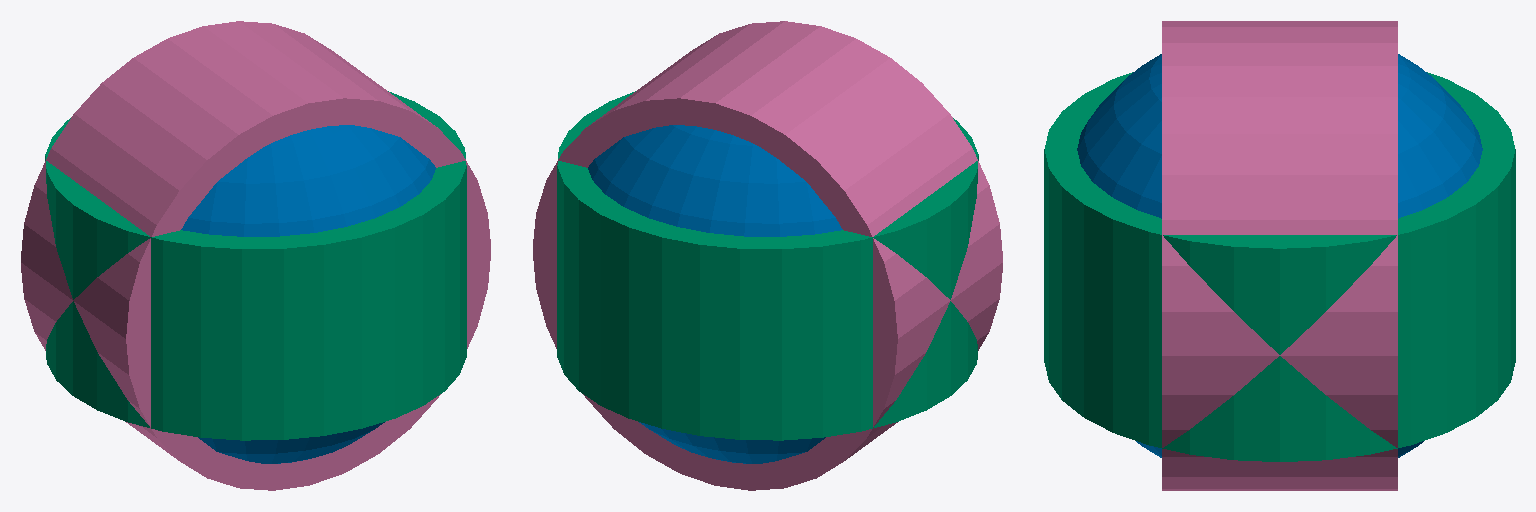
--- Facts derived from the render (not from the file) ---
The picture shows the robot from 3 angles, left to right: view 1: azimuth 30°, elevation 25°; view 2: azimuth 150°, elevation 25°; view 3: azimuth 270°, elevation 25°; orthographic projection.
Model HumanModel with 93 links and 92 joints (44 revolute, 48 fixed), rooted at Pelvis, posed every joint at zero.
Links seen in each view (by area): view 1: Neck, RightShoulder, Head; view 2: Neck, RightShoulder, Head; view 3: Neck, RightShoulder, Head.
Link boxes in pixels (box(x1,y1,x2,y2)): Neck: box(45, 91, 466, 440); RightShoulder: box(21, 21, 490, 490); Head: box(181, 125, 435, 463); Neck: box(557, 91, 978, 440); RightShoulder: box(533, 21, 1002, 490); Head: box(588, 125, 842, 463); Neck: box(1044, 72, 1515, 461); RightShoulder: box(1162, 21, 1397, 490); Head: box(1077, 54, 1482, 457).
Size in the robot's own frame: 2 by 2 by 2 metres.
Geometry: primitives only (box / cylinder / sphere), no mesh files.

robot.urdf — HumanModel:
<robot name="HumanModel">

<!--LINKS-->

##############################################################################
# PELVI  ORIGIN
##############################################################################
	<!--Link base (1)-->
	<link name="Pelvis">
        <inertial>
            <mass value="1e-5"/>
            <!--box origin wrt Pelvis-->
            <origin xyz="0 0 0" rpy="0 0 0" />
            <inertia ixx="0.0" ixy="0.0" ixz="0.0" iyy="0.0" iyz="0.0" izz="0.0"/>
        </inertial>
        <visual>
			<!--box origin wrt Pelvis-->
            <origin xyz="0 0 0" rpy="0 0 0" />
            <geometry>
                <box size="1 1 1"/>
            </geometry>
        </visual>
        <collision>
			<!--box origin wrt Pelvis-->
            <origin xyz="0 0 0" rpy="0 0 0" />
            <geometry>
                <box size="1 1 1"/>
            </geometry>
        </collision>
    </link>
##############################################################################
# PELVI - LOWERTRUNK
##############################################################################
	<link name="LowerTrunk_f1">
        <inertial>
            <mass value="1e-5"/>
            <origin xyz="0 0 0" rpy="0 0 0" />
            <inertia ixx="0.0" ixy="0.0" ixz="0.0" iyy="0.0" iyz="0.0" izz="0.0"/>
        </inertial>
    </link>
##############################################################################
# LOWERTRUNK
##############################################################################
	<link name="LowerTrunk">
        <inertial>
            <mass value="1e-5"/>
			<!--COM origin wrt LowerTrunk-->
            <origin xyz="0 0 0" rpy="0 0 0" />
            <inertia ixx="0.0" ixy="0.0" ixz="0.0" iyy="0.0" iyz="0.0" izz="0.0"/>
        </inertial>
        <visual>
			<!--box origin origin wrt jL5S1-->
            <origin xyz="0 0 0" rpy="0 0 0" />
            <geometry>
                <box size="1 1 1"/>
            </geometry>
        </visual>
        <collision>
			<!--box origin origin wrt jL5S1-->
            <origin xyz="0 0 0" rpy="0 0 0" />
            <geometry>
                <box size="1 1 1"/>
            </geometry>
        </collision>
    </link>
##############################################################################
# LOWERTRUNK - UPPERTRUNK
##############################################################################
	<link name="UpperTrunk_f1">
        <inertial>
            <mass value="1e-5"/>
            <origin xyz="0 0 0" rpy="0 0 0" />
            <inertia ixx="0.0" ixy="0.0" ixz="0.0" iyy="0.0" iyz="0.0" izz="0.0"/>
        </inertial>
    </link>
	<link name="UpperTrunk_f2">
        <inertial>
            <mass value="1e-5"/>
            <origin xyz="0 0 0" rpy="0 0 0" />
            <inertia ixx="0.0" ixy="0.0" ixz="0.0" iyy="0.0" iyz="0.0" izz="0.0"/>
        </inertial>
    </link>
##############################################################################
# UPPERTRUNK
##############################################################################
	<link name="UpperTrunk">
        <inertial>
            <mass value="1e-5"/>
			<!--COM origin wrt jL4L3-->
            <origin xyz="0 0 0" rpy="0 0 0" />
            <inertia ixx="0.0" ixy="0.0" ixz="0.0" iyy="0.0" iyz="0.0" izz="0.0"/>
        </inertial>
        <visual>
			<!--box origin origin wrt jL4L3-->
            <origin xyz="0 0 0" rpy="0 0 0" />
            <geometry>
                <box size="1 1 1"/>
            </geometry>
        </visual>
        <collision>
			<!--box origin origin wrt jL4L3-->
            <origin xyz="0 0 0" rpy="0 0 0" />
            <geometry>
                <box size="1 1 1"/>
            </geometry>
        </collision>
    </link>
##############################################################################
# RIGHTSHOULDER
##############################################################################
	<link name="RightShoulder">
        <inertial>
            <mass value="1e-5"/>
			<!--COM origin wrt jL4L3-->
            <origin xyz="0 0 0" rpy="1.5708 0 0" />
            <inertia ixx="0.0" ixy="0.0" ixz="0.0" iyy="0.0" iyz="0.0" izz="0.0"/>
        </inertial>
        <visual>
			<!--box origin origin wrt jL4L3-->
            <origin xyz="0 0 0" rpy="1.5708 0 0" />
            <geometry>
                <cylinder length="1" radius="1"/>
            </geometry>
        </visual>
        <collision>
			<!--box origin origin wrt jL4L3-->
            <origin xyz="0 0 0" rpy="1.5708 0 0" />
            <geometry>
                <cylinder length="1" radius="1"/>
            </geometry>
        </collision>
    </link>
##############################################################################
# LEFTSHOULDER
##############################################################################
	<link name="LeftShoulder">
        <inertial>
            <mass value="1e-5"/>
			<!--COM origin wrt jL4L3-->
            <origin xyz="0 0 0" rpy="0 0 0" />
            <inertia ixx="0.0" ixy="0.0" ixz="0.0" iyy="0.0" iyz="0.0" izz="0.0"/>
        </inertial>
        <visual>
			<!--box origin origin wrt jL4L3-->
            <origin xyz="0 0 0" rpy="1.5708 0 0" />
            <geometry>
                <cylinder length="1" radius="1"/>
            </geometry>
        </visual>
        <collision>
			<!--box origin origin wrt jL4L3-->
            <origin xyz="0 0 0" rpy="1.5708 0 0" />
            <geometry>
                <cylinder length="1" radius="1"/>
            </geometry>
        </collision>
    </link>
##############################################################################
# UPPERTRUNK - NECK
##############################################################################	
	<link name="Neck_f1">
        <inertial>
            <mass value="1e-5"/>
            <origin xyz="0 0 0" rpy="0 0 0" />
            <inertia ixx="0.0" ixy="0.0" ixz="0.0" iyy="0.0" iyz="0.0" izz="0.0"/>
        </inertial>
    </link>
	<link name="Neck_f2">
        <inertial>
            <mass value="1e-5"/>
            <origin xyz="0 0 0" rpy="0 0 0" />
            <inertia ixx="0.0" ixy="0.0" ixz="0.0" iyy="0.0" iyz="0.0" izz="0.0"/>
        </inertial>
    </link>
##############################################################################
# NECK
##############################################################################	
	<link name="Neck">
        <inertial>
            <mass value="1e-5"/>
			<!--COM origin wrt jT1C7-->
            <origin xyz="0 0 0" rpy="0 0 0" />
            <inertia ixx="0.0" ixy="0.0" ixz="0.0" iyy="0.0" iyz="0.0" izz="0.0"/>
        </inertial>
        <visual>
			<!--box origin wrt jT1C7-->
            <origin xyz="0 0 0" rpy="0 0 0" />
            <geometry>
		<cylinder length="1" radius="1"/>
            </geometry>
        </visual>
        <collision>
			<!--box origin wrt jT1C7-->
            <origin xyz="0 0 0" rpy="0 0 0" />
            <geometry>
                <cylinder length="1" radius="1"/>
            </geometry>
        </collision>
    </link>
##############################################################################
# NECK - HEAD
##############################################################################	
	<link name="Head_f1">
        <inertial>
            <mass value="1e-5"/>
            <origin xyz="0 0 0" rpy="0 0 0" />
            <inertia ixx="0.0" ixy="0.0" ixz="0.0" iyy="0.0" iyz="0.0" izz="0.0"/>
        </inertial>
    </link>
##############################################################################
# HEAD
##############################################################################	
	<link name="Head">
        <inertial>
            <mass value="1e-5"/>
			<!--COM origin wrt jC1Head-->
            <origin xyz="0 0 0" rpy="0 0 0" />
            <inertia ixx="0.0" ixy="0.0" ixz="0.0" iyy="0.0" iyz="0.0" izz="0.0"/>
        </inertial>
        <visual>
			<!--boc origin wrt jC1Head-->
            <origin xyz="0 0 0" rpy="0 0 0" />
            <geometry>
                <sphere radius="1"/>
            </geometry>
        </visual>
        <collision>
			<!--box origin wrt jC1Head-->
            <origin xyz="0 0 0" rpy="0 0 0" />
            <geometry>
                <sphere radius="1"/>
            </geometry>
        </collision>
    </link>
##############################################################################
# RIGHT SHOULDER
##############################################################################
	<link name="RightShoulder_f1">
        <inertial>
            <mass value="1e-5"/>
            <origin xyz="0 0 0" rpy="0 0 0" />
            <inertia ixx="0.0" ixy="0.0" ixz="0.0" iyy="0.0" iyz="0.0" izz="0.0"/>
        </inertial>
    </link>
	<link name="RightShoulder_f2">
        <inertial>
            <mass value="1e-5"/>
            <origin xyz="0 0 0" rpy="0 0 0" />
            <inertia ixx="0.0" ixy="0.0" ixz="0.0" iyy="0.0" iyz="0.0" izz="0.0"/>
        </inertial>
    </link>
##############################################################################
# RIGHT UPPERARM
##############################################################################
    <link name="RightUpperArm">
        <inertial>
            <mass value="1e-5"/>
			<!--COM origin wrt jRightShoulder-->
            <origin xyz="0 0 0" rpy="0 0 0" />
            <inertia ixx="0.0" ixy="0.0" ixz="0.0" iyy="0.0" iyz="0.0" izz="0.0"/>
        </inertial>
        <visual>
			<!--box origin wrt jRightShoulder. RPY rotated of pi/2.-->
            <origin xyz="0 0 0" rpy="1.5708 0 0" />
            <geometry>
                <cylinder length="1" radius="1"/>
            </geometry>
        </visual>
        <collision>
			<!--box origin wrt jRightShoulder. RPY rotated of pi/2.-->
            <origin xyz="0 0 0" rpy="1.5708 0 0" />
            <geometry>
                <cylinder length="1" radius="1"/>
            </geometry>
        </collision>
    </link>
##############################################################################
# RIGHT ELBOW
##############################################################################
	<link name="RightForeArm_f1">
        <inertial>
            <mass value="1e-5"/>
            <origin xyz="0 0 0" rpy="0 0 0" />
            <inertia ixx="0.0" ixy="0.0" ixz="0.0" iyy="0.0" iyz="0.0" izz="0.0"/>
        </inertial>
    </link>
##############################################################################
# RIGHT FOREARM
##############################################################################
	<link name="RightForeArm">
        <inertial>
            <mass value="1e-5"/>
			<!--COM origin wrt jRightElbow-->
            <origin xyz="0 0 0" rpy="0 0 0" />
            <inertia ixx="0.0" ixy="0.0" ixz="0.0" iyy="0.0" iyz="0.0" izz="0.0"/>
        </inertial>
        <visual>
			<!--box origin wrt jRightElbow. RPY rotated of pi/2.-->
            <origin xyz="0 0 0" rpy="1.5708 0 0" />
            <geometry>
                <cylinder length="1" radius="1"/>
            </geometry>
        </visual>
        <collision>
			<!--box origin wrt jRightElbow. RPY rotated of pi/2.-->
            <origin xyz="0 0 0" rpy="1.5708 0 0" />
            <geometry>
                <cylinder length="1" radius="1"/>
            </geometry>
        </collision>
    </link>
##############################################################################
# RIGHT WRIST
##############################################################################
	<link name="RightHand_f1">
        <inertial>
            <mass value="1e-5"/>
            <origin xyz="0 0 0" rpy="0 0 0" />
            <inertia ixx="0.0" ixy="0.0" ixz="0.0" iyy="0.0" iyz="0.0" izz="0.0"/>
        </inertial>
    </link>
##############################################################################
# RIGHT HAND
##############################################################################
	<link name="RightHand">
        <inertial>
            <mass value="1e-5"/>
			<!--COM origin wrt jRightWrist-->
            <origin xyz="0 0 0" rpy="0 0 0" />
            <inertia ixx="0.0" ixy="0.0" ixz="0.0" iyy="0.0" iyz="0.0" izz="0.0"/>
        </inertial>
        <visual>
			<!--box origin wrt jRightWrist-->
            <origin xyz="0 0 0" rpy="0 0 0" />
            <geometry>
                <box size="1 1 1"/>
            </geometry>
        </visual>
        <collision>
			<!--box origin wrt jRightWrist-->
            <origin xyz="0 0 0" rpy="0 0 0" />
            <geometry>
                <box size="1 1 1"/>
            </geometry>
        </collision>
    </link>
##############################################################################
# RIGHT HAND COM
##############################################################################
    <link name="RightHandCOM">
        <inertial>
            <mass value="1e-05"/>
            <origin xyz="0 0 0" rpy="0 0 0" />
            <inertia ixx="0.0" ixy="0.0" ixz="0.0" iyy="0.0" iyz="0.0" izz="0.0"/>
        </inertial>
        <visual>
            <!--box origin wrt jRightWrist-->
            <origin xyz="0 0 0" rpy="0 0 0" />
            <geometry>
                <box size="0 0 0"/>
            </geometry>
        </visual>
    </link>
##############################################################################
# LEFT SHOULDER
##############################################################################
	<link name="LeftShoulder_f1">
        <inertial>
            <mass value="1e-5"/>
            <origin xyz="0 0 0" rpy="0 0 0" />
            <inertia ixx="0.0" ixy="0.0" ixz="0.0" iyy="0.0" iyz="0.0" izz="0.0"/>
        </inertial>
    </link>
	<link name="LeftShoulder_f2">
        <inertial>
            <mass value="1e-5"/>
            <origin xyz="0 0 0" rpy="0 0 0" />
            <inertia ixx="0.0" ixy="0.0" ixz="0.0" iyy="0.0" iyz="0.0" izz="0.0"/>
        </inertial>
    </link>
##############################################################################
# LEFT UPPERARM
##############################################################################
	<link name="LeftUpperArm">
        <inertial>
            <mass value="1e-5"/>
			<!--COM origin wrt jLeftShoulder-->
            <origin xyz="0 0 0" rpy="0 0 0" />
            <inertia ixx="0.0" ixy="0.0" ixz="0.0" iyy="0.0" iyz="0.0" izz="0.0"/>
        </inertial>
        <visual>
			<!--box origin wrt jLeftShoulder. RPY rotated of pi/2.-->
            <origin xyz="0 0 0" rpy="1.5708 0 0" />
            <geometry>
                <cylinder length="1" radius="1"/>
            </geometry>
        </visual>
        <collision>
			<!--box origin wrt jLeftShoulder. RPY rotated of pi/2.-->
            <origin xyz="0 0 0" rpy="1.5708 0 0" />
            <geometry>
                <cylinder length="1" radius="1"/>
            </geometry>
        </collision>
    </link>
##############################################################################
# LEFT ELBOW
##############################################################################
	<link name="LeftForeArm_f1">
        <inertial>
            <mass value="1e-5"/>
            <origin xyz="0 0 0" rpy="0 0 0" />
            <inertia ixx="0.0" ixy="0.0" ixz="0.0" iyy="0.0" iyz="0.0" izz="0.0"/>
        </inertial>
    </link>
##############################################################################
# LEFT FOREARM
##############################################################################
	<link name="LeftForeArm">
        <inertial>
            <mass value="1e-5"/>
			<!--COM origin wrt jLeftElbow-->
            <origin xyz="0 0 0" rpy="0 0 0" />
            <inertia ixx="0.0" ixy="0.0" ixz="0.0" iyy="0.0" iyz="0.0" izz="0.0"/>
        </inertial>
        <visual>
			<!--box origin wrt jLeftElbow. RPY rotated of pi/2.-->
            <origin xyz="0 0 0" rpy="1.5708 0 0" />
            <geometry>
                <cylinder length="1" radius="1"/>
            </geometry>
        </visual>
        <collision>
			<!--box origin wrt jLeftElbow. RPY rotated of pi/2.-->
            <origin xyz="0 0 0" rpy="1.5708 0 0" />
            <geometry>
                <cylinder length="1" radius="1"/>
            </geometry>
        </collision>
    </link>
##############################################################################
# LEFT WRIST
##############################################################################
	<link name="LeftHand_f1">
        <inertial>
            <mass value="1e-5"/>
            <origin xyz="0 0 0" rpy="0 0 0" />
            <inertia ixx="0.0" ixy="0.0" ixz="0.0" iyy="0.0" iyz="0.0" izz="0.0"/>
        </inertial>
    </link>
##############################################################################
# LEFT HAND
##############################################################################
	<link name="LeftHand">
        <inertial>
            <mass value="1e-5"/>
			<!--COM origin wrt jLeftWrist-->
            <origin xyz="0 0 0" rpy="0 0 0" />
            <inertia ixx="0.0" ixy="0.0" ixz="0.0" iyy="0.0" iyz="0.0" izz="0.0"/>
        </inertial>
        <visual>
			<!--COM origin wrt jLeftWrist-->
            <origin xyz="0 0 0" rpy="0 0 0" />
            <geometry>
                <box size="1 1 1"/>
            </geometry>
        </visual>
        <collision>
			<!--COM origin wrt jLeftWrist-->
            <origin xyz="0 0 0" rpy="0 0 0" />
            <geometry>
                <box size="1 1 1"/>
            </geometry>
        </collision>
    </link>
##############################################################################
# LEFT HAND COM
##############################################################################
    <link name="LeftHandCOM">
        <inertial>
            <mass value="1e-05"/>
            <origin xyz="0 0 0" rpy="0 0 0" />
            <inertia ixx="0.0" ixy="0.0" ixz="0.0" iyy="0.0" iyz="0.0" izz="0.0"/>
        </inertial>
        <visual>
            <!--COM origin wrt jLeftWrist-->
            <origin xyz="0 0 0" rpy="0 0 0" />
            <geometry>
                <box size="0 0 0"/>
            </geometry>

        </visual>
    </link>
##############################################################################
# RIGHT HIP
##############################################################################
	<link name="RightUpperLeg_f1">
        <inertial>
            <mass value="1e-5"/>
            <origin xyz="0 0 0" rpy="0 0 0" />
            <inertia ixx="0.0" ixy="0.0" ixz="0.0" iyy="0.0" iyz="0.0" izz="0.0"/>
        </inertial>
    </link>
	<link name="RightUpperLeg_f2">
        <inertial>
            <mass value="1e-5"/>
            <origin xyz="0 0 0" rpy="0 0 0" />
            <inertia ixx="0.0" ixy="0.0" ixz="0.0" iyy="0.0" iyz="0.0" izz="0.0"/>
        </inertial>
    </link>
##############################################################################
# RIGHT UPPERLEG
##############################################################################
    <link name="RightUpperLeg">
        <inertial>
            <mass value="1e-5"/>
			<!--COM origin wrt jRightHip-->
            <origin xyz="0 0 0" rpy="0 0 0" />
            <inertia ixx="0.0" ixy="0.0" ixz="0.0" iyy="0.0" iyz="0.0" izz="0.0"/>
        </inertial>
        <visual>
			<!--box origin wrt jRightHip-->
            <origin xyz="0 0 0" rpy="0 0 0" />
            <geometry>
                <cylinder length="1" radius="1"/>
            </geometry>
        </visual>
        <collision>
			<!--box origin wrt jRightHip-->
            <origin xyz="0 0 0" rpy="0 0 0" />
            <geometry>
                <cylinder length="1" radius="1"/>
            </geometry>
        </collision>
     </link>
##############################################################################
# RIGHT KNEE
##############################################################################
	<link name="RightLowerLeg_f1">
        <inertial>
            <mass value="1e-5"/>
            <origin xyz="0 0 0" rpy="0 0 0" />
            <inertia ixx="0.0" ixy="0.0" ixz="0.0" iyy="0.0" iyz="0.0" izz="0.0"/>
        </inertial>
    </link>
##############################################################################
# RIGHT LOWERLEG
##############################################################################
    <link name="RightLowerLeg">
        <inertial>
            <mass value="1e-5"/>
			<!--COM origin wrt jRightKnee-->
            <origin xyz="0 0 0" rpy="0 0 0" />
            <inertia ixx="0.0" ixy="0.0" ixz="0.0" iyy="0.0" iyz="0.0" izz="0.0"/>
        </inertial>
        <visual>
			<!--box origin wrt jRightKnee-->
            <origin xyz="0 0 0" rpy="0 0 0" />
            <geometry>
                <cylinder length="1" radius="1"/>
            </geometry>
        </visual>
        <collision>
			<!--box origin wrt jRightKnee-->
            <origin xyz="0 0 0" rpy="0 0 0" />
            <geometry>
                <cylinder length="1" radius="1"/>
            </geometry>
        </collision>
    </link>
##############################################################################
# RIGHT ANKLE
############################################################################## 
	<link name="RightFoot_f1">
        <inertial>
            <mass value="1e-5"/>
            <origin xyz="0 0 0" rpy="0 0 0" />
            <inertia ixx="0.0" ixy="0.0" ixz="0.0" iyy="0.0" iyz="0.0" izz="0.0"/>
        </inertial>
    </link>
	<link name="RightFoot_f2">
        <inertial>
            <mass value="1e-5"/>
            <origin xyz="0 0 0" rpy="0 0 0" />
            <inertia ixx="0.0" ixy="0.0" ixz="0.0" iyy="0.0" iyz="0.0" izz="0.0"/>
        </inertial>
    </link>
##############################################################################
# RIGHT FOOT
##############################################################################
    <link name="RightFoot">
        <inertial>
            <mass value="1e-5"/>
			<!--COM origin wrt jRightAnkle-->
            <origin xyz="0 0 0" rpy="0 0 0" />
            <inertia ixx="0.0" ixy="0.0" ixz="0.0" iyy="0.0" iyz="0.0" izz="0.0"/>
        </inertial>
        <visual>
			<!--box origin wrt jRightAnkle-->
            <origin xyz="0 0 0" rpy="0 0 0" />
            <geometry>
                <box size="1 1 1"/>
            </geometry>
        </visual>
        <collision>
			<!--box origin wrt jRightAnkle-->
            <origin xyz="0 0 0" rpy="0 0 0" />
	        <geometry>
                <box size="1 1 1"/>
	        </geometry>
        </collision>
    </link>
##############################################################################
# RIGHT TOE
##############################################################################
    <link name="RightToe">
        <inertial>
            <mass value="1e-5"/>
			<!--COM origin wrt jRightBallFoot-->
            <origin xyz="0 0 0" rpy="0 0 0" />
            <inertia ixx="0.0" ixy="0.0" ixz="0.0" iyy="0.0" iyz="0.0" izz="0.0"/>
        </inertial>
        <visual>
			<!--box origin wrt jRightBallFoot-->
            <origin xyz="0 0 0" rpy="0 0 0" />
            <geometry>
                <box size="1 1 1"/>
            </geometry>
        </visual>
        <collision>
			<!--box origin wrt jRightBallFoot-->
            <origin xyz="0 0 0" rpy="0 0 0" />
	        <geometry>
                <box size="1 1 1"/>
	        </geometry>
        </collision>
    </link>
##############################################################################
# RIGHT FTSENSOR
##############################################################################
    <link name="RightFTSensor">
        <inertial>
            <mass value="1e-05"/>
            <origin xyz="0 0 0" rpy="0 0 0" />
            <inertia ixx="0.0" ixy="0.0" ixz="0.0" iyy="0.0" iyz="0.0" izz="0.0"/>
        </inertial>
        <visual>
            <!--box origin wrt jRightBirken-->
            <origin xyz="0 0 0" rpy="0 0 0" />
            <geometry>
                <box size="0 0 0"/>
            </geometry>
        </visual>
    </link>
##############################################################################
# LEFT HIP
##############################################################################	
	<link name="LeftUpperLeg_f1">
        <inertial>
            <mass value="1e-5"/>
            <origin xyz="0 0 0" rpy="0 0 0" />
            <inertia ixx="0.0" ixy="0.0" ixz="0.0" iyy="0.0" iyz="0.0" izz="0.0"/>
        </inertial>
    </link>
	<link name="LeftUpperLeg_f2">
        <inertial>
            <mass value="1e-5"/>
            <origin xyz="0 0 0" rpy="0 0 0" />
            <inertia ixx="0.0" ixy="0.0" ixz="0.0" iyy="0.0" iyz="0.0" izz="0.0"/>
        </inertial>
    </link>
##############################################################################
# LEFT UPPERLEG
##############################################################################
    <link name="LeftUpperLeg">
        <inertial>
            <mass value="1e-5"/>
			<!--COM origin wrt jLeftHip-->
            <origin xyz="0 0 0" rpy="0 0 0" />
            <inertia ixx="0.0" ixy="0.0" ixz="0.0" iyy="0.0" iyz="0.0" izz="0.0"/>
        </inertial>
        <visual>
			<!--box origin wrt jLeftHip-->
            <origin xyz="0 0 0" rpy="0 0 0" />
            <geometry>
                <cylinder length="1" radius="1"/>
            </geometry>
        </visual>
        <collision>
			<!--box origin wrt jLeftHip-->
            <origin xyz="0 0 0" rpy="0 0 0" />
            <geometry>
                <cylinder length="1" radius="1"/>
            </geometry>
        </collision>
    </link>
##############################################################################
# LEFT KNEE
##############################################################################
	<link name="LeftLowerLeg_f1">
        <inertial>
            <mass value="1e-5"/>
            <origin xyz="0 0 0" rpy="0 0 0" />
            <inertia ixx="0.0" ixy="0.0" ixz="0.0" iyy="0.0" iyz="0.0" izz="0.0"/>
        </inertial>
    </link>
##############################################################################
# LEFT LOWERLEG
##############################################################################
	<link name="LeftLowerLeg">
        <inertial>
            <mass value="1e-5"/>
			<!--COM origin wrt jLeftKnee-->
            <origin xyz="0 0 0" rpy="0 0 0" />
            <inertia ixx="0.0" iyy="0.0" izz="0.0" ixy="0.0" ixz="0.0" iyz="0.0"/>
        </inertial>
        <visual>
			<!--box origin wrt jLeftKnee-->
            <origin xyz="0 0 0" rpy="0 0 0" />
            <geometry>
                <cylinder length="1" radius="1"/>
            </geometry>
        </visual>
        <collision>
			<!--box origin wrt jLeftKnee-->
            <origin xyz="0 0 0" rpy="0 0 0" />
            <geometry>
                <cylinder length="1" radius="1"/>
            </geometry>
        </collision>
    </link>
##############################################################################
# LEFT ANKLE
##############################################################################
	<link name="LeftFoot_f1">
        <inertial>
            <mass value="1e-5"/>
            <origin xyz="0 0 0" rpy="0 0 0" />
            <inertia ixx="0.0" ixy="0.0" ixz="0.0" iyy="0.0" iyz="0.0" izz="0.0"/>
        </inertial>
    </link>
	<link name="LeftFoot_f2">
        <inertial>
            <mass value="1e-5"/>
            <origin xyz="0 0 0" rpy="0 0 0" />
            <inertia ixx="0.0" ixy="0.0" ixz="0.0" iyy="0.0" iyz="0.0" izz="0.0"/>
        </inertial>
    </link>
##############################################################################
# LEFT FOOT
##############################################################################
    <link name="LeftFoot">
        <inertial>
            <mass value="1e-5"/>
			<!--COM origin wrt jLeftAnkle-->
            <origin xyz="0 0 0" rpy="0 0 0" />
            <inertia ixx="0.0" ixy="0.0" ixz="0.0" iyy="0.0" iyz="0.0" izz="0.0"/>
        </inertial>
        <visual>
			<!--box origin wrt jLeftAnkle-->
	   	 	<origin xyz="0 0 0" rpy="0 0 0" />
            <geometry>
                <box size="1 1 1"/>
            </geometry>
        </visual>
        <collision>
			<!--box origin wrt jLeftAnkle-->
		    <origin xyz="0 0 0" rpy="0 0 0" />
	            <geometry>
	                <box size="1 1 1"/>
	            </geometry>
        </collision>
    </link>
##############################################################################
# LEFT TOE
##############################################################################
    <link name="LeftToe">
        <inertial>
            <mass value="1e-5"/>
			<!--COM origin wrt jLeftBallFoot-->
            <origin xyz="0 0 0" rpy="0 0 0" />
            <inertia ixx="0.0" ixy="0.0" ixz="0.0" iyy="0.0" iyz="0.0" izz="0.0"/>
        </inertial>
        <visual>
			<!--box origin wrt jLeftBallFoot-->
            <origin xyz="0 0 0" rpy="0 0 0" />
            <geometry>
                <box size="1 1 1"/>
            </geometry>
        </visual>
        <collision>
			<!--box origin wrt jLeftBallFoot-->
            <origin xyz="0 0 0" rpy="0 0 0" />
	        <geometry>
                <box size="1 1 1"/>
	        </geometry>
        </collision>
    </link>
##############################################################################
# LEFT FTSENSOR
##############################################################################
    <link name="LeftFTSensor">
        <inertial>
            <mass value="1e-05"/>
            <origin xyz="0 0 0" rpy="0 0 0" />
            <inertia ixx="0.0" ixy="0.0" ixz="0.0" iyy="0.0" iyz="0.0" izz="0.0"/>
        </inertial>
        <visual>
            <!--box origin wrt jLeftBirken-->
            <origin xyz="0 0 0" rpy="0 0 0" />
            <geometry>
                <box size="0 0 0"/>
            </geometry>
        </visual>
    </link>

<!--JOINTS-->

##############################################################################
# PELVI - LOWERTRUNK
##############################################################################
	<joint name="jL5S1_rotx" type="revolute">
        <origin xyz="0 0 0" rpy="0 0 0"/>
        <parent link="Pelvis"/>
        <child link="LowerTrunk_f1"/>
        <dynamics damping="0.1" friction="0.0"/>
        <limit effort="30" velocity="1.0" lower="-0.610865" upper="0.610865" />
        <axis xyz="1 0 0" />
    </joint>
	<joint name="jL5S1_roty" type="revolute">
        <origin xyz="0 0 0" rpy="0 0 0"/>
        <parent link="LowerTrunk_f1"/>
        <child link="LowerTrunk"/>
        <dynamics damping="0.1" friction="0.0"/>
        <limit effort="30" velocity="1.0" lower="-0.523599" upper="1.309" />
        <axis xyz="0 1 0" />
    </joint>
##############################################################################
# LOWERTRUNK - UPPERTRUNK
##############################################################################
	<joint name="jT9T8_rotx" type="revolute">
        <origin xyz="0 0 0" rpy="0 0 0"/>
        <parent link="LowerTrunk"/>
        <child link="UpperTrunk_f1"/>
        <dynamics damping="0.1" friction="0.0"/>
        <limit effort="30" velocity="1.0" lower="-0.349066" upper="0.349066" />
        <axis xyz="1 0 0" />
    </joint>
	<joint name="jT9T8_roty" type="revolute">
        <origin xyz="0 0 0" rpy="0 0 0"/>
        <parent link="UpperTrunk_f1"/>
        <child link="UpperTrunk_f2"/>
        <dynamics damping="0.1" friction="0.0"/>
        <limit effort="30" velocity="1.0" lower="-0.261799" upper="0.698132" />
        <axis xyz="0 1 0" />
    </joint>
    <joint name="jT9T8_rotz" type="revolute">
        <origin xyz="0 0 0" rpy="0 0 0"/>
        <parent link="UpperTrunk_f2"/>
        <child link="UpperTrunk"/>
        <dynamics damping="0.1" friction="0.0"/>
        <limit effort="30" velocity="1.0" lower="-0.610865" upper="0.610865" />
        <axis xyz="0 0 1" />
    </joint>
##############################################################################
# UPPERTRUNK - RIGHTSHOULDER
##############################################################################
	<joint name="jC7RightShoulder_rotx" type="revolute">
        <origin xyz="0 0 0" rpy="0 0 0"/>
        <parent link="UpperTrunk"/>
        <child link="RightShoulder"/>
        <dynamics damping="0.1" friction="0.0"/>
        <limit effort="30" velocity="1.0" lower="-0.785398" upper="0.0872665" />
        <axis xyz="1 0 0" />
    </joint>
##############################################################################
# UPPERTRUNK - LEFTSHOULDER
##############################################################################
	<joint name="jC7LeftShoulder_rotx" type="revolute">
        <origin xyz="0 0 0" rpy="0 0 0"/>
        <parent link="UpperTrunk"/>
        <child link="LeftShoulder"/>
        <dynamics damping="0.1" friction="0.0"/>
        <limit effort="30" velocity="1.0" lower="-0.0872665" upper="0.785398" />
        <axis xyz="1 0 0" />
    </joint>
##############################################################################
# UPPERTRUNK - NECK
##############################################################################
	<joint name="jT1C7_rotx" type="revolute">
        <origin xyz="0 0 0" rpy="0 0 0"/>
        <parent link="UpperTrunk"/>
        <child link="Neck_f1"/>
        <dynamics damping="0.1" friction="0.0"/>
        <limit effort="30" velocity="1.0" lower="-0.610865" upper="0.610865" />
        <axis xyz="1 0 0" />
    </joint>
	<joint name="jT1C7_roty" type="revolute">
        <origin xyz="0 0 0" rpy="0 0 0"/>
        <parent link="Neck_f1"/>
        <child link="Neck_f2"/>
        <dynamics damping="0.1" friction="0.0"/>
        <limit effort="30" velocity="1.0" lower="-0.959931" upper="1.5708" />
        <axis xyz="0 1 0" />
    </joint>
    <joint name="jT1C7_rotz" type="revolute">
        <origin xyz="0 0 0" rpy="0 0 0"/>
        <parent link="Neck_f2"/>
        <child link="Neck"/>
        <dynamics damping="0.1" friction="0.0"/>
        <limit effort="30" velocity="1.0" lower="-1.22173" upper="1.22173" />
        <axis xyz="0 0 1" />
    </joint>
##############################################################################
# NECK - HEAD
##############################################################################  
	<joint name="jC1Head_rotx" type="revolute">
        <origin xyz="0 0 0" rpy="0 0 0"/>
        <parent link="Neck"/>
        <child link="Head_f1"/>
        <dynamics damping="0.1" friction="0.0"/>
        <limit effort="30" velocity="1.0" lower="-0.610865" upper="0.610865" />
        <axis xyz="1 0 0" />
    </joint>
	<joint name="jC1Head_roty" type="revolute">
        <origin xyz="0 0 0" rpy="0 0 0"/>
        <parent link="Head_f1"/>
        <child link="Head"/>
        <dynamics damping="0.1" friction="0.0"/>
        <limit effort="30" velocity="1.0" lower="-0.436332" upper="0.174533" />
        <axis xyz="0 1 0" />
    </joint>
##############################################################################
# RIGHT SHOULDER
##############################################################################
	<joint name="jRightShoulder_rotx" type="revolute">
        <origin xyz="0 0 0" rpy="0 0 0"/>
        <parent link="RightShoulder"/>
        <child link="RightShoulder_f1"/>
        <dynamics damping="0.1" friction="0.0"/>
        <limit effort="30" velocity="1.0" lower="-0.8727" upper="0.8727" />
        <axis xyz="1 0 0" />
    </joint>
	<joint name="jRightShoulder_roty" type="revolute">
        <origin xyz="0 0 0" rpy="0 0 0"/>
        <parent link="RightShoulder_f1"/>
        <child link="RightShoulder_f2"/>
        <dynamics damping="0.1" friction="0.0"/>
        <limit effort="30" velocity="1.0" lower="-0.8727" upper="0.8727" />
        <axis xyz="0 1 0" />
    </joint>
    <joint name="jRightShoulder_rotz" type="revolute">
        <origin xyz="0 0 0" rpy="0 0 0"/>
        <parent link="RightShoulder_f2"/>
        <child link="RightUpperArm"/>
        <dynamics damping="0.1" friction="0.0"/>
        <limit effort="30" velocity="1.0" lower="-0.8727" upper="0.8727" />
        <axis xyz="0 0 1" />
    </joint>
##############################################################################
# RIGHT ELBOW
##############################################################################
	<joint name="jRightElbow_roty" type="revolute">
        <origin xyz="0 0 0" rpy="0 0 0"/>
        <parent link="RightUpperArm"/>
        <child link="RightForeArm_f1"/>
        <dynamics damping="0.1" friction="0.0"/>
        <limit effort="30" velocity="1.0" lower="-1.5708" upper="1.48353" />
        <axis xyz="0 1 0" />
    </joint>
    <joint name="jRightElbow_rotz" type="revolute">
        <origin xyz="0 0 0" rpy="0 0 0"/>
        <parent link="RightForeArm_f1"/>
        <child link="RightForeArm"/>
        <dynamics damping="0.1" friction="0.0"/>
        <limit effort="30" velocity="1.0" lower="0" upper="2.53073" />
        <axis xyz="0 0 1" />
    </joint>
##############################################################################
# RIGHT WRIST
##############################################################################
	<joint name="jRightWrist_rotx" type="revolute">
        <origin xyz="0 0 0" rpy="0 0 0"/>
        <parent link="RightForeArm"/>
        <child link="RightHand_f1"/>
        <dynamics damping="0.1" friction="0.0"/>
        <limit effort="30" velocity="1.0" lower="-0.872665" upper="1.0472" />
        <axis xyz="1 0 0" />
    </joint>
    <joint name="jRightWrist_rotz" type="revolute">
        <origin xyz="0 0 0" rpy="0 0 0"/>
        <parent link="RightHand_f1"/>
        <child link="RightHand"/>
        <dynamics damping="0.1" friction="0.0"/>
        <limit effort="30" velocity="1.0" lower="-0.523599" upper="0.349066" />
        <axis xyz="0 0 1" />
    </joint>
##############################################################################
# RIGHT HAND COM
##############################################################################   
    <joint name="jRightHandCOM" type="fixed">
        <origin xyz="0 0 0" rpy="0 0 0"/>
        <parent link="RightHand"/>
        <child link="RightHandCOM"/>
        <axis xyz="0 0 0" />
    </joint>
##############################################################################
# LEFT SHOULDER
##############################################################################

	<joint name="jLeftShoulder_rotx" type="revolute">
        <origin xyz="0 0 0" rpy="0 0 0"/>
        <parent link="LeftShoulder"/>
        <child link="LeftShoulder_f1"/>
        <dynamics damping="0.1" friction="0.0"/>
        <limit effort="30" velocity="1.0" lower="-0.8727" upper="0.8727" />
        <axis xyz="1 0 0" />
    </joint>
	<joint name="jLeftShoulder_roty" type="revolute">
        <origin xyz="0 0 0" rpy="0 0 0"/>
        <parent link="LeftShoulder_f1"/>
        <child link="LeftShoulder_f2"/>
        <dynamics damping="0.1" friction="0.0"/>
        <limit effort="30" velocity="1.0" lower="-0.8727" upper="0.8727" />
        <axis xyz="0 1 0" />
    </joint>
    <joint name="jLeftShoulder_rotz" type="revolute">
        <origin xyz="0 0 0" rpy="0 0 0"/>
        <parent link="LeftShoulder_f2"/>
        <child link="LeftUpperArm"/>
        <dynamics damping="0.1" friction="0.0"/>
        <limit effort="30" velocity="1.0" lower="-0.8727" upper="0.8727" />
        <axis xyz="0 0 1" />
    </joint>
##############################################################################
# LEFT ELBOW
##############################################################################
	<joint name="jLeftElbow_roty" type="revolute">
        <origin xyz="0 0 0" rpy="0 0 0"/>
        <parent link="LeftUpperArm"/>
        <child link="LeftForeArm_f1"/>
        <dynamics damping="0.1" friction="0.0"/>
        <limit effort="30" velocity="1.0" lower="-1.5708" upper="1.48353" />
        <axis xyz="0 1 0" />
    </joint>
    <joint name="jLeftElbow_rotz" type="revolute">
        <origin xyz="0 0 0" rpy="0 0 0"/>
        <parent link="LeftForeArm_f1"/>
        <child link="LeftForeArm"/>
        <dynamics damping="0.1" friction="0.0"/>
        <limit effort="30" velocity="1.0" lower="-2.53073" upper="0" />
        <axis xyz="0 0 1" />
    </joint>
##############################################################################
# LEFT WRIST
##############################################################################
	<joint name="jLeftWrist_rotx" type="revolute">
        <origin xyz="0 0 0" rpy="0 0 0"/>
        <parent link="LeftForeArm"/>
        <child link="LeftHand_f1"/>
        <dynamics damping="0.1" friction="0.0"/>
        <limit effort="30" velocity="1.0" lower="-1.0472" upper="0.872665" />
        <axis xyz="1 0 0" />
    </joint>
    <joint name="jLeftWrist_rotz" type="revolute">
        <origin xyz="0 0 0" rpy="0 0 0"/>
        <parent link="LeftHand_f1"/>
        <child link="LeftHand"/>
        <dynamics damping="0.1" friction="0.0"/>
        <limit effort="30" velocity="1.0" lower="-0.349066" upper="0.523599" />
        <axis xyz="0 0 1" />
    </joint>
##############################################################################
# LEFT HAND COM
############################################################################## 
    <joint name="jLeftHandCOM" type="fixed">
        <origin xyz="0 0 0" rpy="0 0 0"/>
        <parent link="LeftHand"/>
        <child link="LeftHandCOM"/>
        <axis xyz="0 0 0" />
    </joint>
##############################################################################
# RIGHT HIP
##############################################################################
	<joint name="jRightHip_rotx" type="revolute">
        <origin xyz="0 0 0" rpy="0 0 0"/>
        <parent link="Pelvis"/>
        <child link="RightUpperLeg_f1"/>
        <dynamics damping="0.1" friction="0.0"/>
        <limit effort="30" velocity="1.0" lower="-0.785398" upper="0.523599" />
        <axis xyz="1 0 0" />
    </joint>
	<joint name="jRightHip_roty" type="revolute">
        <origin xyz="0 0 0" rpy="0 0 0"/>
        <parent link="RightUpperLeg_f1"/>
        <child link="RightUpperLeg_f2"/>
        <dynamics damping="0.1" friction="0.0"/>
        <limit effort="30" velocity="1.0" lower="-2.0944" upper="0.261799" />
        <axis xyz="0 1 0" />
    </joint>
    <joint name="jRightHip_rotz" type="revolute">
        <origin xyz="0 0 0" rpy="0 0 0"/>
        <parent link="RightUpperLeg_f2"/>
        <child link="RightUpperLeg"/>
        <dynamics damping="0.1" friction="0.0"/>
        <limit effort="30" velocity="1.0" lower="-0.785398" upper="0.785398" />
        <axis xyz="0 0 1" />
    </joint>
##############################################################################
# RIGHT KNEE
##############################################################################
	<joint name="jRightKnee_roty" type="revolute">
        <origin xyz="0 0 0" rpy="0 0 0"/>
        <parent link="RightUpperLeg"/>
        <child link="RightLowerLeg_f1"/>
        <dynamics damping="0.1" friction="0.0"/>
        <limit effort="30" velocity="1.0" lower="0" upper="2.35619" />
        <axis xyz="0 1 0" />
    </joint>
    <joint name="jRightKnee_rotz" type="revolute">
        <origin xyz="0 0 0" rpy="0 0 0"/>
        <parent link="RightLowerLeg_f1"/>
        <child link="RightLowerLeg"/>
        <dynamics damping="0.1" friction="0.0"/>
        <limit effort="30" velocity="1.0" lower="-0.698132" upper="0.523599" />
        <axis xyz="0 0 1" />
    </joint>
##############################################################################
# RIGHT ANKLE
##############################################################################
	<joint name="jRightAnkle_rotx" type="revolute">
        <origin xyz="0 0 0" rpy="0 0 0"/>
        <parent link="RightLowerLeg"/>
        <child link="RightFoot_f1"/>
        <dynamics damping="0.1" friction="0.0"/>
        <limit effort="30" velocity="1.0" lower="-0.610865" upper="0.785398" />
        <axis xyz="1 0 0" />
    </joint>
	<joint name="jRightAnkle_roty" type="revolute">
        <origin xyz="0 0 0" rpy="0 0 0"/>
        <parent link="RightFoot_f1"/>
        <child link="RightFoot_f2"/>
        <dynamics damping="0.1" friction="0.0"/>
        <limit effort="30" velocity="1.0" lower="-0.523599" upper="0.872665" />
        <axis xyz="0 1 0" />
    </joint>
    <joint name="jRightAnkle_rotz" type="revolute">
        <origin xyz="0 0 0" rpy="0 0 0"/>
        <parent link="RightFoot_f2"/>
        <child link="RightFoot"/>
        <dynamics damping="0.1" friction="0.0"/>
        <limit effort="30" velocity="1.0" lower="-0.436332" upper="0.872665" />
        <axis xyz="0 0 1" />
    </joint>
##############################################################################
# RIGHT TOE
##############################################################################   
    <joint name="jRightBallFoot_roty" type="revolute">
        <origin xyz="0 0 0" rpy="0 0 0"/>
        <parent link="RightFoot"/>
        <child link="RightToe"/>
        <dynamics damping="0.1" friction="0.0"/>
        <limit effort="30" velocity="1.0" lower="-0.174533" upper="1.5708" />
        <axis xyz="0 1 0" />
    </joint>
##############################################################################
# RIGHT BIRKEN
##############################################################################   
    <joint name="jRightBirken_roty" type="fixed">
        <origin xyz="0 0 0" rpy="0 0 0"/>
        <parent link="RightFoot"/>
        <child link="RightFTSensor"/>
        <dynamics damping="0.1" friction="0.0"/>
        <limit effort="30" velocity="1.0" lower="-0.174533" upper="1.5708" />
        <axis xyz="0 1 0" />
    </joint>
##############################################################################
# LEFT HIP
##############################################################################
	<joint name="jLeftHip_rotx" type="revolute">
        <origin xyz="0 0 0" rpy="0 0 0"/>
        <parent link="Pelvis"/>
        <child link="LeftUpperLeg_f1"/>
        <dynamics damping="0.1" friction="0.0"/>
        <limit effort="30" velocity="1.0" lower="-0.523599" upper="0.785398" />
        <axis xyz="1 0 0" />
    </joint>
	<joint name="jLeftHip_roty" type="revolute">
        <origin xyz="0 0 0" rpy="0 0 0"/>
        <parent link="LeftUpperLeg_f1"/>
        <child link="LeftUpperLeg_f2"/>
        <dynamics damping="0.1" friction="0.0"/>
        <limit effort="30" velocity="1.0" lower="-2.0944" upper="0.261799" />
        <axis xyz="0 1 0" />
    </joint>
    <joint name="jLeftHip_rotz" type="revolute">
        <origin xyz="0 0 0" rpy="0 0 0"/>
        <parent link="LeftUpperLeg_f2"/>
        <child link="LeftUpperLeg"/>
        <dynamics damping="0.1" friction="0.0"/>
        <limit effort="30" velocity="1.0" lower="-0.785398" upper="0.785398" />
        <axis xyz="0 0 1" />
    </joint>
##############################################################################
# LEFT KNEE
##############################################################################
	<joint name="jLeftKnee_roty" type="revolute">
        <origin xyz="0 0 0" rpy="0 0 0"/>
        <parent link="LeftUpperLeg"/>
        <child link="LeftLowerLeg_f1"/>
        <dynamics damping="0.1" friction="0.0"/>
        <limit effort="30" velocity="1.0" lower="0" upper="2.35619" />
        <axis xyz="0 1 0" />
    </joint>
    <joint name="jLeftKnee_rotz" type="revolute">
        <origin xyz="0 0 0" rpy="0 0 0"/>
        <parent link="LeftLowerLeg_f1"/>
        <child link="LeftLowerLeg"/>
        <dynamics damping="0.1" friction="0.0"/>
        <limit effort="30" velocity="1.0" lower="-0.523599" upper="0.698132" />
        <axis xyz="0 0 1" />
    </joint>
##############################################################################
# LEFT ANKLE
##############################################################################
	<joint name="jLeftAnkle_rotx" type="revolute">
        <origin xyz="0 0 0"  rpy="0 0 0"/>
        <parent link="LeftLowerLeg"/>
        <child link="LeftFoot_f1"/>
        <dynamics damping="0.1" friction="0.0"/>
        <limit effort="30" velocity="1.0" lower="-0.785398" upper="0.610865" />
        <axis xyz="1 0 0" />
    </joint>
	<joint name="jLeftAnkle_roty" type="revolute">
        <origin xyz="0 0 0" rpy="0 0 0"/>
        <parent link="LeftFoot_f1"/>
        <child link="LeftFoot_f2"/>
        <dynamics damping="0.1" friction="0.0"/>
        <limit effort="30" velocity="1.0" lower="-0.523599" upper="0.872665" />
        <axis xyz="0 1 0" />
    </joint>
    <joint name="jLeftAnkle_rotz" type="revolute">
        <origin xyz="0 0 0" rpy="0 0 0"/>
        <parent link="LeftFoot_f2"/>
        <child link="LeftFoot"/>
        <dynamics damping="0.1" friction="0.0"/>
        <limit effort="30" velocity="1.0" lower="-0.872665" upper="0.436332" />
        <axis xyz="0 0 1" />
    </joint>
##############################################################################
# LEFT TOE
##############################################################################   
    <joint name="jLeftBallFoot_roty" type="revolute">
        <origin xyz="0 0 0" rpy="0 0 0"/>
        <parent link="LeftFoot"/>
        <child link="LeftToe"/>
        <dynamics damping="0.1" friction="0.0"/>
        <limit effort="30" velocity="1.0" lower="-0.174533" upper="1.5708" />
        <axis xyz="0 1 0" />
    </joint>
##############################################################################
# LEFT BIRKEN
##############################################################################   
    <joint name="jLeftBirken_roty" type="fixed">
        <origin xyz="0 0 0" rpy="0 0 0"/>
        <parent link="LeftFoot"/>
        <child link="LeftFTSensor"/>
        <dynamics damping="0.1" friction="0.0"/>
        <limit effort="30" velocity="1.0" lower="-0.174533" upper="1.5708" />
        <axis xyz="0 1 0" />
    </joint>

<!--MUSCLE LINKS-->  

##############################################################################
# RIGHT BICBRAC ORIGIN
##############################################################################
    <link name="BicBrac_RUA">
        <inertial>
            <mass value="0.0"/>
            <origin xyz="0 0 0" rpy="0 0 0" />
            <inertia ixx="0.0" ixy="0.0" ixz="0.0" iyy="0.0" iyz="0.0" izz="0.0"/>
        </inertial>
    </link>
##############################################################################
# RIGHT BICBRAC INSERTION
##############################################################################
    <link name="BicBrac_RFA">
        <inertial>
            <mass value="0.0"/>
            <origin xyz="0 0 0" rpy="0 0 0" />
            <inertia ixx="0.0" ixy="0.0" ixz="0.0" iyy="0.0" iyz="0.0" izz="0.0"/>
        </inertial>
    </link>
##############################################################################
# RIGHT TRICBRAC ORIGIN
##############################################################################
    <link name="TricBrac_RUA">
        <inertial>
            <mass value="0.0"/>
            <origin xyz="0 0 0" rpy="0 0 0" />
            <inertia ixx="0.0" ixy="0.0" ixz="0.0" iyy="0.0" iyz="0.0" izz="0.0"/>
        </inertial>
    </link>
##############################################################################
# RIGHT TRICBRAC INSERTION
##############################################################################
    <link name="TricBrac_RFA">
        <inertial>
            <mass value="0.0"/>
            <origin xyz="0 0 0" rpy="0 0 0" />
            <inertia ixx="0.0" ixy="0.0" ixz="0.0" iyy="0.0" iyz="0.0" izz="0.0"/>
        </inertial>
    </link>
##############################################################################
# RIGHT FLEXCARP ORIGIN
##############################################################################
    <link name="FlexCarp_RFA">
        <inertial>
            <mass value="0.0"/>
            <origin xyz="0 0 0" rpy="0 0 0" />
            <inertia ixx="0.0" ixy="0.0" ixz="0.0" iyy="0.0" iyz="0.0" izz="0.0"/>
        </inertial>
    </link>
##############################################################################
# RIGHT FLEXCARP INSERTION
##############################################################################
    <link name="FlexCarp_RH">
        <inertial>
            <mass value="0.0"/>
            <origin xyz="0 0 0" rpy="0 0 0" />
            <inertia ixx="0.0" ixy="0.0" ixz="0.0" iyy="0.0" iyz="0.0" izz="0.0"/>
        </inertial>
    </link>
##############################################################################
# RIGHT EXTCARP ORIGIN
##############################################################################
    <link name="ExtCarp_RFA">
        <inertial>
            <mass value="0.0"/>
            <origin xyz="0 0 0" rpy="0 0 0" />
            <inertia ixx="0.0" ixy="0.0" ixz="0.0" iyy="0.0" iyz="0.0" izz="0.0"/>
        </inertial>
    </link>
##############################################################################
# RIGHT EXTCARP INSERTION
##############################################################################
    <link name="ExtCarp_RH">
        <inertial>
            <mass value="0.0"/>
            <origin xyz="0 0 0" rpy="0 0 0" />
            <inertia ixx="0.0" ixy="0.0" ixz="0.0" iyy="0.0" iyz="0.0" izz="0.0"/>
        </inertial>
    </link>
##############################################################################
# LEFT BICBRAC ORIGIN
##############################################################################
    <link name="BicBrac_LUA">
        <inertial>
            <mass value="0.0"/>
            <origin xyz="0 0 0" rpy="0 0 0" />
            <inertia ixx="0.0" ixy="0.0" ixz="0.0" iyy="0.0" iyz="0.0" izz="0.0"/>
        </inertial>
    </link>
##############################################################################
# LEFT BICBRAC INSERTION
##############################################################################
    <link name="BicBrac_LFA">
        <inertial>
            <mass value="0.0"/>
            <origin xyz="0 0 0" rpy="0 0 0" />
            <inertia ixx="0.0" ixy="0.0" ixz="0.0" iyy="0.0" iyz="0.0" izz="0.0"/>
        </inertial>
    </link>
##############################################################################
# LEFT TRICBRAC ORIGIN
##############################################################################
    <link name="TricBrac_LUA">
        <inertial>
            <mass value="0.0"/>
            <origin xyz="0 0 0" rpy="0 0 0" />
            <inertia ixx="0.0" ixy="0.0" ixz="0.0" iyy="0.0" iyz="0.0" izz="0.0"/>
        </inertial>
    </link>
##############################################################################
# LEFT TRICBRAC INSERTION
##############################################################################
    <link name="TricBrac_LFA">
        <inertial>
            <mass value="0.0"/>
            <origin xyz="0 0 0" rpy="0 0 0" />
            <inertia ixx="0.0" ixy="0.0" ixz="0.0" iyy="0.0" iyz="0.0" izz="0.0"/>
        </inertial>
    </link>
##############################################################################
# LEFT FLEXCARP ORIGIN
##############################################################################
    <link name="FlexCarp_LFA">
        <inertial>
            <mass value="0.0"/>
            <origin xyz="0 0 0" rpy="0 0 0" />
            <inertia ixx="0.0" ixy="0.0" ixz="0.0" iyy="0.0" iyz="0.0" izz="0.0"/>
        </inertial>
    </link>
##############################################################################
# LEFT FLEXCARP INSERTION
##############################################################################
    <link name="FlexCarp_LH">
        <inertial>
            <mass value="0.0"/>
            <origin xyz="0 0 0" rpy="0 0 0" />
            <inertia ixx="0.0" ixy="0.0" ixz="0.0" iyy="0.0" iyz="0.0" izz="0.0"/>
        </inertial>
    </link>
##############################################################################
# LEFT EXTCARP ORIGIN
##############################################################################
    <link name="ExtCarp_LFA">
        <inertial>
            <mass value="0.0"/>
            <origin xyz="0 0 0" rpy="0 0 0" />
            <inertia ixx="0.0" ixy="0.0" ixz="0.0" iyy="0.0" iyz="0.0" izz="0.0"/>
        </inertial>
    </link>
##############################################################################
# LEFT EXTCARP INSERTION
##############################################################################
    <link name="ExtCarp_LH">
        <inertial>
            <mass value="0.0"/>
            <origin xyz="0 0 0" rpy="0 0 0" />
            <inertia ixx="0.0" ixy="0.0" ixz="0.0" iyy="0.0" iyz="0.0" izz="0.0"/>
        </inertial>
    </link>
##############################################################################
# RIGHT RECABD ORIGIN
##############################################################################
    <link name="RecAbd_RUT">
        <inertial>
            <mass value="0.0"/>
            <origin xyz="0 0 0" rpy="0 0 0" />
            <inertia ixx="0.0" ixy="0.0" ixz="0.0" iyy="0.0" iyz="0.0" izz="0.0"/>
        </inertial>
    </link>
##############################################################################
# RIGHT RECABD INSERTION
##############################################################################
    <link name="RecAbd_RP">
        <inertial>
            <mass value="0.0"/>
            <origin xyz="0 0 0" rpy="0 0 0" />
            <inertia ixx="0.0" ixy="0.0" ixz="0.0" iyy="0.0" iyz="0.0" izz="0.0"/>
        </inertial>
    </link>
##############################################################################
 RIGHT ERSPIN ORIGIN
##############################################################################
    <link name="ErSpin_RUT">
        <inertial>
            <mass value="0.0"/>
            <origin xyz="0 0 0" rpy="0 0 0" />
            <inertia ixx="0.0" ixy="0.0" ixz="0.0" iyy="0.0" iyz="0.0" izz="0.0"/>
        </inertial>
    </link>
##############################################################################
# RIGHT ERSPIN INSERTION
##############################################################################
    <link name="ErSpin_RP">
        <inertial>
            <mass value="0.0"/>
            <origin xyz="0 0 0" rpy="0 0 0" />
            <inertia ixx="0.0" ixy="0.0" ixz="0.0" iyy="0.0" iyz="0.0" izz="0.0"/>
        </inertial>
    </link>
##############################################################################
 LEFT RECABD ORIGIN
##############################################################################
    <link name="RecAbd_LUT">
        <inertial>
            <mass value="0.0"/>
            <origin xyz="0 0 0" rpy="0 0 0" />
            <inertia ixx="0.0" ixy="0.0" ixz="0.0" iyy="0.0" iyz="0.0" izz="0.0"/>
        </inertial>
    </link>
##############################################################################
# LEFT RECABD INSERTION
##############################################################################
    <link name="RecAbd_LP">
        <inertial>
            <mass value="0.0"/>
            <origin xyz="0 0 0" rpy="0 0 0" />
            <inertia ixx="0.0" ixy="0.0" ixz="0.0" iyy="0.0" iyz="0.0" izz="0.0"/>
        </inertial>
    </link>
##############################################################################
 LEFT ERSPIN ORIGIN
##############################################################################
    <link name="ErSpin_LUT">
        <inertial>
            <mass value="0.0"/>
            <origin xyz="0 0 0" rpy="0 0 0" />
            <inertia ixx="0.0" ixy="0.0" ixz="0.0" iyy="0.0" iyz="0.0" izz="0.0"/>
        </inertial>
    </link>
##############################################################################
# LEFT ERSPIN INSERTION
##############################################################################
    <link name="ErSpin_LP">
        <inertial>
            <mass value="0.0"/>
            <origin xyz="0 0 0" rpy="0 0 0" />
            <inertia ixx="0.0" ixy="0.0" ixz="0.0" iyy="0.0" iyz="0.0" izz="0.0"/>
        </inertial>
    </link>
##############################################################################
# RIGHT RECFEM ORIGIN
##############################################################################
    <link name="RecFem_RLT">
        <inertial>
            <mass value="0.0"/>
            <origin xyz="0 0 0" rpy="0 0 0" />
            <inertia ixx="0.0" ixy="0.0" ixz="0.0" iyy="0.0" iyz="0.0" izz="0.0"/>
        </inertial>
    </link>
##############################################################################
# RIGHT RECFEM INSERTION
##############################################################################
    <link name="RecFem_RLL">
        <inertial>
            <mass value="0.0"/>
            <origin xyz="0 0 0" rpy="0 0 0" />
            <inertia ixx="0.0" ixy="0.0" ixz="0.0" iyy="0.0" iyz="0.0" izz="0.0"/>
        </inertial>
    </link>
##############################################################################
# RIGHT BICFEM ORIGIN
##############################################################################
    <link name="BicFem_RUL">
        <inertial>
            <mass value="0.0"/>
            <origin xyz="0 0 0" rpy="0 0 0" />
            <inertia ixx="0.0" ixy="0.0" ixz="0.0" iyy="0.0" iyz="0.0" izz="0.0"/>
        </inertial>
    </link>
##############################################################################
# RIGHT BICFEM INSERTION
##############################################################################
    <link name="BicFem_RLL">
        <inertial>
            <mass value="0.0"/>
            <origin xyz="0 0 0" rpy="0 0 0" />
            <inertia ixx="0.0" ixy="0.0" ixz="0.0" iyy="0.0" iyz="0.0" izz="0.0"/>
        </inertial>
    </link>
##############################################################################
# LEFT RECFEM ORIGIN
##############################################################################
    <link name="RecFem_LLT">
        <inertial>
            <mass value="0.0"/>
            <origin xyz="0 0 0" rpy="0 0 0" />
            <inertia ixx="0.0" ixy="0.0" ixz="0.0" iyy="0.0" iyz="0.0" izz="0.0"/>
        </inertial>
    </link>
##############################################################################
# LEFT RECFEM INSERTION
##############################################################################
    <link name="RecFem_LLL">
        <inertial>
            <mass value="0.0"/>
            <origin xyz="0 0 0" rpy="0 0 0" />
            <inertia ixx="0.0" ixy="0.0" ixz="0.0" iyy="0.0" iyz="0.0" izz="0.0"/>
        </inertial>
    </link>
##############################################################################
# LEFT BICFEM ORIGIN
##############################################################################
    <link name="BicFem_LUL">
        <inertial>
            <mass value="0.0"/>
            <origin xyz="0 0 0" rpy="0 0 0" />
            <inertia ixx="0.0" ixy="0.0" ixz="0.0" iyy="0.0" iyz="0.0" izz="0.0"/>
        </inertial>
    </link>
##############################################################################
# LEFT BICFEM INSERTION
##############################################################################
    <link name="BicFem_LLL">
        <inertial>
            <mass value="0.0"/>
            <origin xyz="0 0 0" rpy="0 0 0" />
            <inertia ixx="0.0" ixy="0.0" ixz="0.0" iyy="0.0" iyz="0.0" izz="0.0"/>
        </inertial>
    </link>
##############################################################################
# RIGHT TIBANT ORIGIN
##############################################################################
    <link name="TibAnt_RLL">
        <inertial>
            <mass value="0.0"/>
            <origin xyz="0 0 0" rpy="0 0 0" />
            <inertia ixx="0.0" ixy="0.0" ixz="0.0" iyy="0.0" iyz="0.0" izz="0.0"/>
        </inertial>
    </link>
##############################################################################
# RIGHT TIBANT INSERTION
##############################################################################
    <link name="TibAnt_RF">
        <inertial>
            <mass value="0.0"/>
            <origin xyz="0 0 0" rpy="0 0 0" />
            <inertia ixx="0.0" ixy="0.0" ixz="0.0" iyy="0.0" iyz="0.0" izz="0.0"/>
        </inertial>
    </link>
##############################################################################
# RIGHT GASLAT ORIGIN
##############################################################################
    <link name="GasLat_RUL">
        <inertial>
            <mass value="0.0"/>
            <origin xyz="0 0 0" rpy="0 0 0" />
            <inertia ixx="0.0" ixy="0.0" ixz="0.0" iyy="0.0" iyz="0.0" izz="0.0"/>
        </inertial>
    </link>
##############################################################################
# RIGHT GASLAT INSERTION
##############################################################################
    <link name="GasLat_RF">
        <inertial>
            <mass value="0.0"/>
            <origin xyz="0 0 0" rpy="0 0 0" />
            <inertia ixx="0.0" ixy="0.0" ixz="0.0" iyy="0.0" iyz="0.0" izz="0.0"/>
        </inertial>
    </link>
##############################################################################
# RIGHT GASMED ORIGIN
##############################################################################
    <link name="GasMed_RUL">
        <inertial>
            <mass value="0.0"/>
            <origin xyz="0 0 0" rpy="0 0 0" />
            <inertia ixx="0.0" ixy="0.0" ixz="0.0" iyy="0.0" iyz="0.0" izz="0.0"/>
        </inertial>
    </link>
##############################################################################
# RIGHT GASMED INSERTION
##############################################################################
    <link name="GasMed_RF">
        <inertial>
            <mass value="0.0"/>
            <origin xyz="0 0 0" rpy="0 0 0" />
            <inertia ixx="0.0" ixy="0.0" ixz="0.0" iyy="0.0" iyz="0.0" izz="0.0"/>
        </inertial>
    </link>
##############################################################################
# LEFT TIBANT ORIGIN
##############################################################################
    <link name="TibAnt_LLL">
        <inertial>
            <mass value="0.0"/>
            <origin xyz="0 0 0" rpy="0 0 0" />
            <inertia ixx="0.0" ixy="0.0" ixz="0.0" iyy="0.0" iyz="0.0" izz="0.0"/>
        </inertial>
    </link>
##############################################################################
# LEFT TIBANT INSERTION
##############################################################################
    <link name="TibAnt_LF">
        <inertial>
            <mass value="0.0"/>
            <origin xyz="0 0 0" rpy="0 0 0" />
            <inertia ixx="0.0" ixy="0.0" ixz="0.0" iyy="0.0" iyz="0.0" izz="0.0"/>
        </inertial>
    </link>
##############################################################################
# LEFT GASLAT ORIGIN
##############################################################################
    <link name="GasLat_LUL">
        <inertial>
            <mass value="0.0"/>
            <origin xyz="0 0 0" rpy="0 0 0" />
            <inertia ixx="0.0" ixy="0.0" ixz="0.0" iyy="0.0" iyz="0.0" izz="0.0"/>
        </inertial>
    </link>
##############################################################################
# LEFT GASLAT INSERTION
##############################################################################
    <link name="GasLat_LF">
        <inertial>
            <mass value="0.0"/>
            <origin xyz="0 0 0" rpy="0 0 0" />
            <inertia ixx="0.0" ixy="0.0" ixz="0.0" iyy="0.0" iyz="0.0" izz="0.0"/>
        </inertial>
    </link>
##############################################################################
# LEFT GASMED ORIGIN
##############################################################################
    <link name="GasMed_LUL">
        <inertial>
            <mass value="0.0"/>
            <origin xyz="0 0 0" rpy="0 0 0" />
            <inertia ixx="0.0" ixy="0.0" ixz="0.0" iyy="0.0" iyz="0.0" izz="0.0"/>
        </inertial>
    </link>
##############################################################################
# LEFT GASMED INSERTION
##############################################################################
    <link name="GasMed_LF">
        <inertial>
            <mass value="0.0"/>
            <origin xyz="0 0 0" rpy="0 0 0" />
            <inertia ixx="0.0" ixy="0.0" ixz="0.0" iyy="0.0" iyz="0.0" izz="0.0"/>
        </inertial>
    </link>

<!--MUSCLE JOINT-->  

##############################################################################
# RIGHT BICBRAC ORIGIN
##############################################################################
    <joint name="jRightBicBrac_RUA" type="fixed">
        <origin xyz="0 0 0" rpy="0 0 0"/>
        <parent link="RightUpperArm"/>
        <child link="BicBrac_RUA"/>
        <axis xyz="0 0 0" />
    </joint>
##############################################################################
# RIGHT BICBRAC INSERTION
##############################################################################
    <joint name="jRightBicBrac_RFA" type="fixed">
        <origin xyz="0 0 0" rpy="0 0 0"/>
        <parent link="RightForeArm"/>
        <child link="BicBrac_RFA"/>
        <axis xyz="0 0 0" />
    </joint>
##############################################################################
# RIGHT TRICBRAC ORIGIN
##############################################################################
    <joint name="jRightTricBrac_RUA" type="fixed">
        <origin xyz="0 0 0" rpy="0 0 0"/>
        <parent link="RightUpperArm"/>
        <child link="TricBrac_RUA"/>
        <axis xyz="0 0 0" />
    </joint>
##############################################################################
# RIGHT TRICBRAC INSERTION
##############################################################################
    <joint name="jRightTricBrac_RFA" type="fixed">
        <origin xyz="0 0 0" rpy="0 0 0"/>
        <parent link="RightForeArm"/>
        <child link="TricBrac_RFA"/>
        <axis xyz="0 0 0" />
    </joint>
##############################################################################
# RIGHT FLEXCARP ORIGIN
##############################################################################
    <joint name="jRightFlexCarp_RFA" type="fixed">
        <origin xyz="0 0 0" rpy="0 0 0"/>
        <parent link="RightForeArm"/>
        <child link="FlexCarp_RFA"/>
        <axis xyz="0 0 0" />
    </joint>
##############################################################################
# RIGHT FLEXCARP INSERTION
##############################################################################
    <joint name="jRightFlexCarp_RH" type="fixed">
        <origin xyz="0 0 0" rpy="0 0 0"/>
        <parent link="RightHand"/>
        <child link="FlexCarp_RH"/>
        <axis xyz="0 0 0" />
    </joint>
##############################################################################
# RIGHT EXTCARP ORIGIN
##############################################################################
    <joint name="jRightExtCarp_RFA" type="fixed">
        <origin xyz="0 0 0" rpy="0 0 0"/>
        <parent link="RightForeArm"/>
        <child link="ExtCarp_RFA"/>
        <axis xyz="0 0 0" />
    </joint>
##############################################################################
# RIGHT EXTCARP INSERTION
##############################################################################
    <joint name="jRightExtCarp_RH" type="fixed">
        <origin xyz="0 0 0" rpy="0 0 0"/>
        <parent link="RightHand"/>
        <child link="ExtCarp_RH"/>
        <axis xyz="0 0 0" />
    </joint>
##############################################################################
# LEFT BICBRAC ORIGIN
##############################################################################
    <joint name="jLeftBicBrac_LUA" type="fixed">
        <origin xyz="0 0 0" rpy="0 0 0"/>
        <parent link="LeftUpperArm"/>
        <child link="BicBrac_LUA"/>
        <axis xyz="0 0 0" />
    </joint>
##############################################################################
# LEFT BICBRAC INSERTION
##############################################################################
    <joint name="jLeftBicBrac_LFA" type="fixed">
        <origin xyz="0 0 0" rpy="0 0 0"/>
        <parent link="LeftForeArm"/>
        <child link="BicBrac_LFA"/>
        <axis xyz="0 0 0" />
    </joint>
##############################################################################
# LEFT TRICBRAC ORIGIN
##############################################################################
    <joint name="jLeftTricBrac_LUA" type="fixed">
        <origin xyz="0 0 0" rpy="0 0 0"/>
        <parent link="LeftUpperArm"/>
        <child link="TricBrac_LUA"/>
        <axis xyz="0 0 0" />
    </joint>
##############################################################################
# LEFT TRICBRAC INSERTION
##############################################################################
    <joint name="jLeftTricBrac_LFA" type="fixed">
        <origin xyz="0 0 0" rpy="0 0 0"/>
        <parent link="LeftForeArm"/>
        <child link="TricBrac_LFA"/>
        <axis xyz="0 0 0" />
    </joint>
##############################################################################
# LEFT FLEXCARP ORIGIN
##############################################################################
    <joint name="jLeftFlexCarp_LFA" type="fixed">
        <origin xyz="0 0 0" rpy="0 0 0"/>
        <parent link="LeftForeArm"/>
        <child link="FlexCarp_LFA"/>
        <axis xyz="0 0 0" />
    </joint>
##############################################################################
# LEFT FLEXCARP INSERTION
##############################################################################
    <joint name="jLeftFlexCarp_LH" type="fixed">
        <origin xyz="0 0 0" rpy="0 0 0"/>
        <parent link="LeftHand"/>
        <child link="FlexCarp_LH"/>
        <axis xyz="0 0 0" />
    </joint>
##############################################################################
# LEFT EXTCARP ORIGIN
##############################################################################
    <joint name="jLeftExtCarp_LFA" type="fixed">
        <origin xyz="0 0 0" rpy="0 0 0"/>
        <parent link="LeftForeArm"/>
        <child link="ExtCarp_LFA"/>
        <axis xyz="0 0 0" />
    </joint>
##############################################################################
# LEFT EXTCARP INSERTION
##############################################################################
    <joint name="jLeftExtCarp_LH" type="fixed">
        <origin xyz="0 0 0" rpy="0 0 0"/>
        <parent link="LeftHand"/>
        <child link="ExtCarp_LH"/>
        <axis xyz="0 0 0" />
    </joint>
##############################################################################
# RIGHT RECABD ORIGIN
##############################################################################
    <joint name="jRightRecAbd_RUT" type="fixed">
        <origin xyz="0 0 0" rpy="0 0 0"/>
        <parent link="UpperTrunk"/>
        <child link="RecAbd_RUT"/>
        <axis xyz="0 0 0" />
    </joint>
##############################################################################
# RIGHT RECABD INSERTION
##############################################################################
    <joint name="jRightRecAbd_RP" type="fixed">
        <origin xyz="0 0 0" rpy="0 0 0"/>
        <parent link="Pelvis"/>
        <child link="RecAbd_RP"/>
        <axis xyz="0 0 0" />
    </joint>
##############################################################################
# RIGHT ERSPIN ORIGIN
##############################################################################
    <joint name="jRightErSpin_RUT" type="fixed">
        <origin xyz="0 0 0" rpy="0 0 0"/>
        <parent link="UpperTrunk"/>
        <child link="ErSpin_RUT"/>
        <axis xyz="0 0 0" />
    </joint>
##############################################################################
# RIGHT ERSPIN INSERTION
##############################################################################
    <joint name="jRightErSpin_RP" type="fixed">
        <origin xyz="0 0 0" rpy="0 0 0"/>
        <parent link="Pelvis"/>
        <child link="ErSpin_RP"/>
        <axis xyz="0 0 0" />
    </joint>
##############################################################################
# LEFT RECABD ORIGIN
##############################################################################
    <joint name="jLeftRecAbd_LUT" type="fixed">
        <origin xyz="0 0 0" rpy="0 0 0"/>
        <parent link="UpperTrunk"/>
        <child link="RecAbd_LUT"/>
        <axis xyz="0 0 0" />
    </joint>
##############################################################################
# LEFT RECABD INSERTION
##############################################################################
    <joint name="jLeftRecAbd_LP" type="fixed">
        <origin xyz="0 0 0" rpy="0 0 0"/>
        <parent link="Pelvis"/>
        <child link="RecAbd_LP"/>
        <axis xyz="0 0 0" />
    </joint>
##############################################################################
# LEFT ERSPIN ORIGIN
##############################################################################
    <joint name="jLeftErSpin_LUT" type="fixed">
        <origin xyz="0 0 0" rpy="0 0 0"/>
        <parent link="UpperTrunk"/>
        <child link="ErSpin_LUT"/>
        <axis xyz="0 0 0" />
    </joint>
##############################################################################
# LEFT ERSPIN INSERTION
##############################################################################
    <joint name="jLeftErSpin_LP" type="fixed">
        <origin xyz="0 0 0" rpy="0 0 0"/>
        <parent link="Pelvis"/>
        <child link="ErSpin_LP"/>
        <axis xyz="0 0 0" />
    </joint>
##############################################################################
# RIGHT RECFEM ORIGIN
##############################################################################
    <joint name="jRightRecFem_RP" type="fixed">
        <origin xyz="0 0 0" rpy="0 0 0"/>
        <parent link="Pelvis"/>
        <child link="RecFem_RLT"/>
        <axis xyz="0 0 0" />
    </joint>
##############################################################################
# RIGHT RECFEM INSERTION
##############################################################################
    <joint name="jRightRecFem_RLL" type="fixed">
        <origin xyz="0 0 0" rpy="0 0 0"/>
        <parent link="RightLowerLeg"/>
        <child link="RecFem_RLL"/>
        <axis xyz="0 0 0" />
    </joint>
##############################################################################
# RIGHT BICFEM ORIGIN
##############################################################################
    <joint name="jRightBicFem_RUL" type="fixed">
        <origin xyz="0 0 0" rpy="0 0 0"/>
        <parent link="RightUpperLeg"/>
        <child link="BicFem_RUL"/>
        <axis xyz="0 0 0" />
    </joint>
##############################################################################
# RIGHT BICFEM INSERTION
##############################################################################
    <joint name="jRightBicFem_RLL" type="fixed">
        <origin xyz="0 0 0" rpy="0 0 0"/>
        <parent link="RightLowerLeg"/>
        <child link="BicFem_RLL"/>
        <axis xyz="0 0 0" />
    </joint>
##############################################################################
# LEFT RECFEM ORIGIN
##############################################################################
    <joint name="jLeftRecFem_LP" type="fixed">
        <origin xyz="0 0 0" rpy="0 0 0"/>
        <parent link="Pelvis"/>
        <child link="RecFem_LLT"/>
        <axis xyz="0 0 0" />
    </joint>
##############################################################################
# LEFT RECFEM INSERTION
##############################################################################
    <joint name="jLeftRecFem_LLL" type="fixed">
        <origin xyz="0 0 0" rpy="0 0 0"/>
        <parent link="LeftLowerLeg"/>
        <child link="RecFem_LLL"/>
        <axis xyz="0 0 0" />
    </joint>
##############################################################################
# LEFT BICFEM ORIGIN
##############################################################################
    <joint name="jLeftBicFem_LUL" type="fixed">
        <origin xyz="0 0 0" rpy="0 0 0"/>
        <parent link="LeftUpperLeg"/>
        <child link="BicFem_LUL"/>
        <axis xyz="0 0 0" />
    </joint>
##############################################################################
# LEFT BICFEM INSERTION
##############################################################################
    <joint name="jLeftBicFem_LLL" type="fixed">
        <origin xyz="0 0 0" rpy="0 0 0"/>
        <parent link="LeftLowerLeg"/>
        <child link="BicFem_LLL"/>
        <axis xyz="0 0 0" />
    </joint>
############################################################################## 
# RIGHT TIBANT ORIGIN
##############################################################################
    <joint name="jRightTibAnt_RLL" type="fixed">
        <origin xyz="0 0 0" rpy="0 0 0"/>
        <parent link="RightLowerLeg"/>
        <child link="TibAnt_RLL"/>
        <axis xyz="0 0 0" />
    </joint>
##############################################################################
# RIGHT TIBANT INSERTION
##############################################################################
    <joint name="jRightTibAnt_RF" type="fixed">
        <origin xyz="0 0 0" rpy="0 0 0"/>
        <parent link="RightFoot"/>
        <child link="TibAnt_RF"/>
        <axis xyz="0 0 0" />
    </joint>
##############################################################################
# RIGHT GASLAT ORIGIN
##############################################################################
    <joint name="jRightGasLat_RUL" type="fixed">
        <origin xyz="0 0 0" rpy="0 0 0"/>
        <parent link="RightUpperLeg"/>
        <child link="GasLat_RUL"/>
        <axis xyz="0 0 0" />
    </joint>
##############################################################################
# RIGHT GASLAT INSERTION
##############################################################################
    <joint name="jRightGasLat_RF" type="fixed">
        <origin xyz="0 0 0" rpy="0 0 0"/>
        <parent link="RightFoot"/>
        <child link="GasLat_RF"/>
        <axis xyz="0 0 0" />
    </joint>
##############################################################################  
# RIGHT GASMED ORIGIN
##############################################################################
    <joint name="jRightGasMed_RUL" type="fixed">
        <origin xyz="0 0 0" rpy="0 0 0"/>
        <parent link="RightUpperLeg"/>
        <child link="GasMed_RUL"/>
        <axis xyz="0 0 0" />
    </joint>
##############################################################################
# RIGHT GASMED INSERTION
##############################################################################
    <joint name="jRightGasMed_RF" type="fixed">
        <origin xyz="0 0 0" rpy="0 0 0"/>
        <parent link="RightFoot"/>
        <child link="GasMed_RF"/>
        <axis xyz="0 0 0" />
    </joint>
##############################################################################
# LEFT TIBANT ORIGIN
##############################################################################
    <joint name="jLeftTibAnt_LLL" type="fixed">
        <origin xyz="0 0 0" rpy="0 0 0"/>
        <parent link="LeftLowerLeg"/>
        <child link="TibAnt_LLL"/>
        <axis xyz="0 0 0" />
    </joint>
############################################################################## 
# LEFT TIBANT INSERTION
##############################################################################
    <joint name="jLeftTibAnt_LF" type="fixed">
        <origin xyz="0 0 0" rpy="0 0 0"/>
        <parent link="LeftFoot"/>
        <child link="TibAnt_LF"/>
        <axis xyz="0 0 0" />
    </joint>
##############################################################################
# LEFT GASLAT ORIGIN
##############################################################################
    <joint name="jLeftGasLat_LUL" type="fixed">
        <origin xyz="0 0 0" rpy="0 0 0"/>
        <parent link="LeftUpperLeg"/>
        <child link="GasLat_LUL"/>
        <axis xyz="0 0 0" />
    </joint>
##############################################################################
# LEFT GASLAT INSERTION
##############################################################################
    <joint name="jLeftGasLat_LF" type="fixed">
        <origin xyz="0 0 0" rpy="0 0 0"/>
        <parent link="LeftFoot"/>
        <child link="GasLat_LF"/>
        <axis xyz="0 0 0" />
    </joint>
##############################################################################  
# LEFT GASMED ORIGIN
##############################################################################
    <joint name="jLeftGasMed_LUL" type="fixed">
        <origin xyz="0 0 0" rpy="0 0 0"/>
        <parent link="LeftUpperLeg"/>
        <child link="GasMed_LUL"/>
        <axis xyz="0 0 0" />
    </joint>
##############################################################################
# LEFT GASMED INSERTION
##############################################################################
    <joint name="jLeftGasMed_LF" type="fixed">
        <origin xyz="0 0 0" rpy="0 0 0"/>
        <parent link="LeftFoot"/>
        <child link="GasMed_LF"/>
        <axis xyz="0 0 0" />  
    </joint>

</robot>
